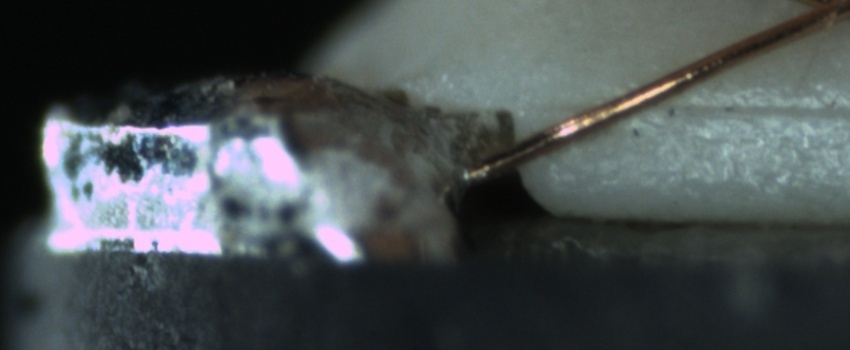DL: (565, 74, 847, 136)
